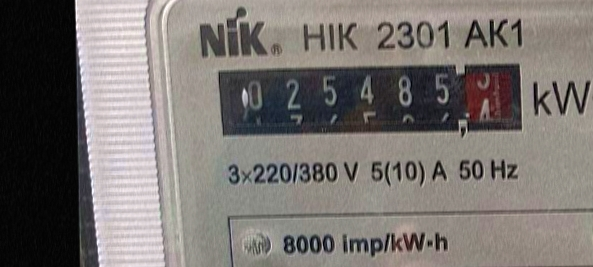0: (242, 77, 264, 112)
2: (281, 76, 302, 112)
4: (354, 72, 375, 106), (473, 96, 493, 124)
5: (429, 71, 450, 108), (317, 73, 337, 108)
8: (393, 71, 414, 110)
screen: (207, 56, 529, 148)
